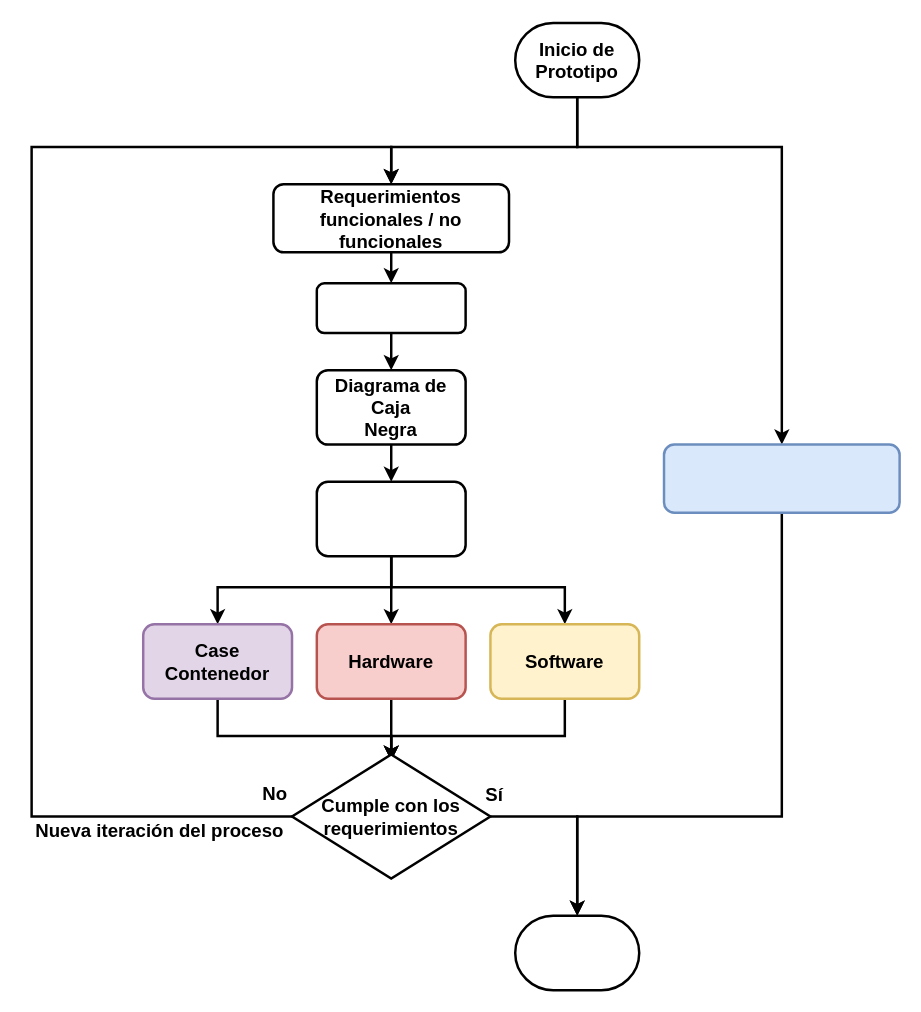
This 921x1012 diagram has some shape labels left out. Here are the shapes that lost their labels. From the top down, the centre of each, then its label:
At (x=390, y=307): "Diagrama de flujo".
At (x=781, y=478): "Proceso documental".
At (x=390, y=518): "Diagrama tecnológico".
At (x=576, y=952): "Prototipo Finalizado".
